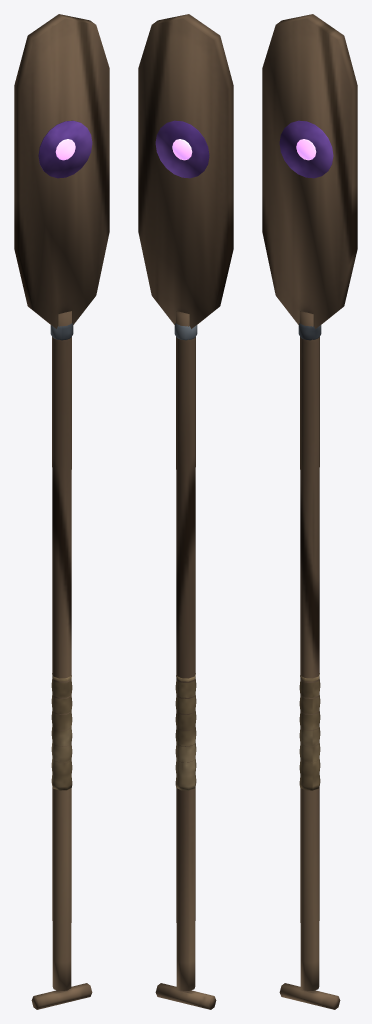
Rendered from FerrymansOar.fbx.
3 renders of one model, left to right at view 1: azimuth 30°, elevation 25°; view 2: azimuth 150°, elevation 25°; view 3: azimuth 330°, elevation 25°, orthographic.
Parts seen in each view (by area): view 1: FerrymansOar; view 2: FerrymansOar; view 3: FerrymansOar.
Boxes of the visible parts, <box> form: FerrymansOar: <box>14,14,109,1009</box>; FerrymansOar: <box>138,14,233,1009</box>; FerrymansOar: <box>262,14,357,1009</box>.
Bounding box in the file's own units: 0.2 × 2.11 × 0.044.
